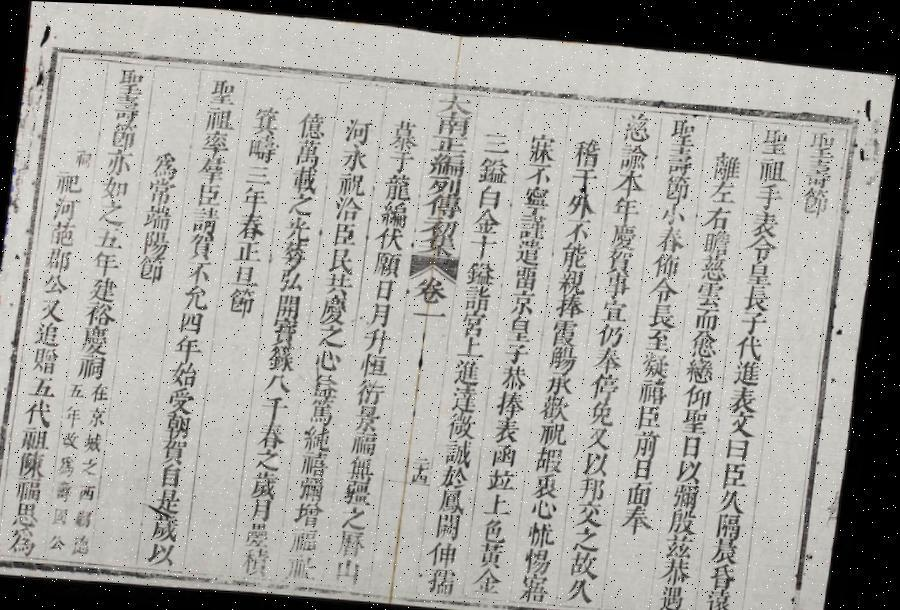c: (526, 126, 563, 160), (432, 108, 476, 136), (388, 114, 424, 148), (415, 272, 455, 302), (806, 122, 842, 155), (711, 144, 747, 177), (296, 106, 332, 139), (524, 567, 561, 599), (82, 323, 119, 355), (477, 150, 514, 182), (424, 189, 466, 217), (342, 110, 376, 144), (250, 101, 284, 135), (572, 130, 606, 164), (321, 291, 356, 324), (626, 499, 662, 531), (758, 120, 794, 152), (518, 204, 554, 236), (664, 576, 700, 608), (26, 396, 62, 428), (246, 543, 282, 575), (450, 406, 486, 438), (246, 132, 283, 163), (428, 148, 470, 175), (230, 283, 264, 316), (206, 74, 241, 106), (664, 140, 699, 172), (800, 180, 835, 212), (621, 106, 656, 138), (431, 562, 468, 592), (666, 550, 703, 580), (293, 522, 330, 552), (338, 140, 375, 170), (434, 87, 478, 112), (566, 184, 600, 216), (22, 448, 56, 480), (255, 466, 289, 498), (384, 168, 418, 200), (290, 162, 324, 194), (196, 152, 231, 183), (190, 204, 225, 235), (359, 373, 394, 404), (538, 440, 573, 471), (643, 345, 678, 376), (446, 434, 482, 464), (756, 150, 792, 180), (616, 137, 652, 167), (434, 534, 470, 564), (574, 544, 610, 574), (302, 446, 338, 476), (305, 420, 341, 450), (12, 526, 48, 556), (478, 562, 514, 592), (298, 496, 334, 526), (592, 366, 628, 396), (731, 379, 767, 409), (543, 388, 579, 418), (85, 299, 122, 328), (290, 550, 328, 578), (139, 253, 172, 285), (114, 65, 148, 96), (692, 323, 726, 354), (260, 417, 294, 448), (724, 454, 758, 485), (803, 152, 837, 183), (561, 236, 595, 267), (750, 203, 785, 233), (666, 112, 701, 142), (155, 511, 190, 541), (531, 514, 566, 544), (640, 372, 675, 402), (736, 327, 772, 356), (742, 278, 778, 307), (44, 244, 80, 273), (142, 202, 178, 231), (346, 475, 383, 503), (454, 380, 487, 411), (509, 310, 542, 341), (273, 314, 306, 345), (176, 331, 210, 361), (104, 146, 138, 176), (342, 525, 376, 555), (310, 394, 344, 424), (33, 344, 67, 374), (356, 400, 390, 430), (662, 169, 696, 199), (264, 391, 298, 421), (610, 216, 644, 246), (108, 120, 142, 150), (364, 322, 398, 352), (456, 354, 490, 384), (238, 210, 272, 240), (515, 234, 549, 264), (499, 384, 533, 414), (293, 136, 327, 166), (374, 247, 408, 277), (699, 249, 734, 278), (444, 458, 479, 487), (753, 176, 788, 205), (166, 410, 201, 439), (716, 530, 751, 559), (301, 471, 336, 500), (614, 164, 650, 192), (421, 230, 463, 254), (78, 352, 114, 380), (746, 229, 782, 257), (648, 296, 684, 324), (541, 416, 577, 444), (636, 423, 668, 454), (152, 148, 184, 179), (281, 237, 314, 267), (606, 242, 639, 272), (187, 231, 220, 261), (496, 410, 529, 440), (270, 341, 303, 371), (362, 348, 396, 377), (612, 190, 646, 219), (735, 353, 769, 382), (536, 467, 570, 496), (673, 502, 707, 531), (596, 341, 630, 370), (350, 451, 384, 480), (24, 424, 58, 453), (48, 219, 82, 248), (172, 358, 206, 387), (580, 494, 614, 523), (159, 485, 193, 514), (16, 499, 50, 528), (170, 384, 204, 413), (710, 581, 744, 610), (98, 197, 132, 226), (146, 176, 180, 205), (689, 351, 723, 380), (334, 192, 368, 221), (380, 197, 414, 226), (704, 198, 739, 226), (54, 168, 89, 196), (528, 542, 563, 570), (571, 571, 606, 599), (656, 220, 691, 248), (467, 256, 502, 284), (112, 92, 144, 122), (484, 536, 516, 566), (462, 306, 494, 336), (554, 312, 586, 342), (314, 369, 347, 398), (720, 506, 753, 535), (36, 319, 69, 348), (482, 123, 515, 152), (676, 476, 709, 505), (465, 281, 498, 310), (284, 212, 317, 241), (503, 359, 536, 388), (234, 236, 268, 264), (470, 230, 504, 258), (722, 482, 756, 510), (730, 405, 764, 433), (686, 377, 720, 405), (442, 482, 476, 510), (339, 553, 373, 581), (51, 194, 85, 222), (90, 274, 124, 302), (702, 224, 736, 252), (194, 180, 228, 208), (344, 500, 378, 528), (92, 248, 126, 276), (473, 204, 507, 232), (556, 288, 590, 316), (336, 168, 370, 196), (203, 104, 238, 131), (152, 539, 187, 566), (669, 528, 704, 555), (242, 183, 274, 212), (423, 213, 465, 235), (684, 402, 717, 430), (577, 520, 610, 548), (429, 131, 473, 152), (426, 172, 468, 194), (164, 436, 197, 464), (714, 556, 747, 584), (489, 486, 522, 514), (598, 317, 632, 344), (582, 470, 616, 497), (316, 345, 350, 372), (746, 254, 780, 281), (694, 299, 728, 326), (558, 264, 592, 291), (653, 247, 687, 274), (376, 223, 410, 250), (708, 174, 743, 200), (413, 302, 454, 324), (277, 290, 308, 319), (184, 282, 216, 310), (142, 228, 174, 256), (278, 264, 310, 292), (592, 395, 624, 423), (439, 508, 471, 536), (250, 518, 282, 546), (698, 274, 730, 302), (329, 244, 361, 272), (19, 477, 53, 503), (101, 174, 135, 200), (353, 428, 387, 454), (548, 366, 582, 392), (587, 445, 618, 473), (511, 286, 542, 314), (680, 453, 712, 480), (630, 475, 662, 502), (570, 162, 602, 189), (742, 303, 774, 330), (320, 321, 352, 348), (604, 268, 637, 294), (647, 322, 680, 348), (200, 128, 233, 154), (522, 180, 555, 206), (651, 272, 684, 298), (332, 218, 362, 246), (487, 512, 518, 539), (639, 399, 670, 426), (326, 269, 358, 295), (287, 190, 319, 216), (492, 462, 524, 488), (660, 196, 692, 222), (386, 146, 418, 172), (258, 444, 290, 470), (40, 296, 72, 322), (43, 271, 75, 297), (552, 341, 584, 367), (31, 373, 64, 398), (244, 161, 277, 186), (96, 225, 129, 250), (478, 180, 508, 207), (513, 261, 544, 287), (604, 293, 635, 319), (729, 430, 760, 456), (589, 421, 620, 447), (535, 492, 568, 516), (234, 260, 264, 286), (162, 461, 192, 487), (188, 258, 218, 284), (496, 438, 526, 464), (268, 369, 300, 393), (525, 159, 558, 182), (370, 298, 398, 325), (254, 495, 284, 520), (565, 214, 596, 238), (461, 332, 492, 356), (684, 428, 712, 454), (182, 308, 210, 334), (506, 338, 537, 360), (635, 452, 663, 476), (376, 274, 400, 300), (78, 530, 102, 556), (68, 401, 90, 428), (88, 428, 112, 452), (91, 402, 114, 427), (60, 477, 82, 503), (62, 452, 84, 477), (54, 530, 76, 554), (74, 146, 96, 170), (82, 480, 106, 502), (56, 504, 78, 527), (94, 380, 116, 402), (86, 455, 107, 478), (80, 506, 101, 528), (67, 428, 88, 450), (72, 379, 93, 399), (418, 460, 438, 472), (418, 470, 437, 481), (420, 453, 438, 462)
